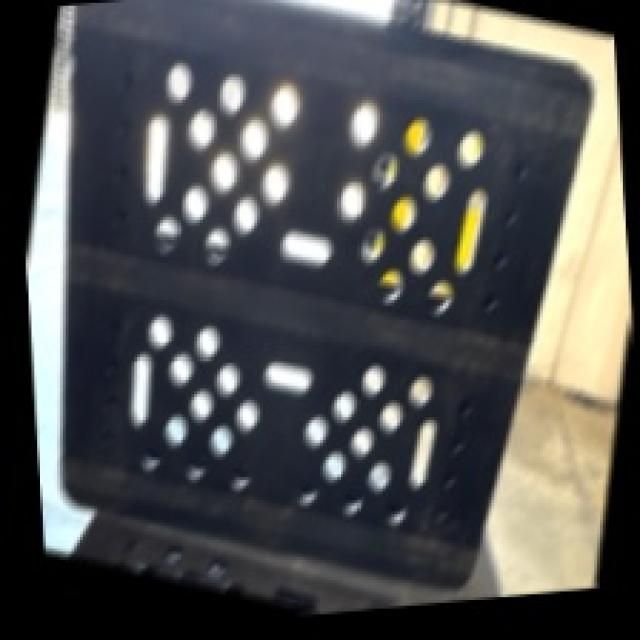igps: (54, 0, 597, 594)
